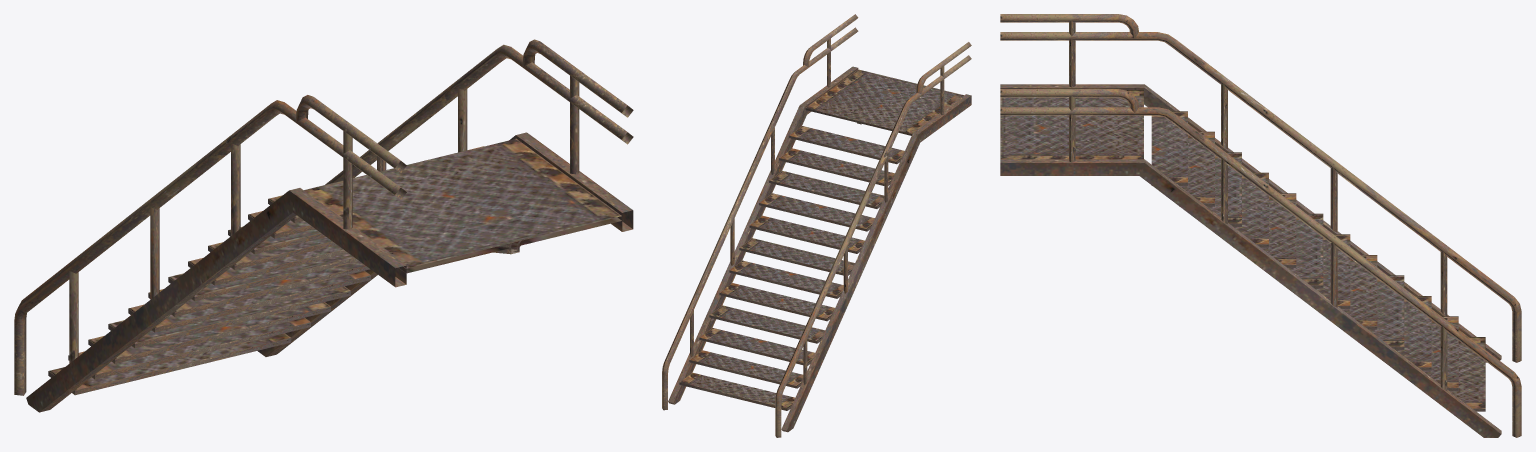
The model's file is Bridge_stairs1.fbx.
3 views of the same model, side by side, from view 1: azimuth 30°, elevation 25°; view 2: azimuth 150°, elevation 25°; view 3: azimuth 270°, elevation 25° (orthographic). The views are drawn at different scales.
Parts seen in each view (by area): view 1: Bridge_stairs1; view 2: Bridge_stairs1; view 3: Bridge_stairs1.
Part boxes in pixels (x1,y1,x2,y2): Bridge_stairs1: (14, 39, 633, 412); Bridge_stairs1: (662, 14, 971, 437); Bridge_stairs1: (1000, 14, 1521, 437).
Size of the model in its own units: 210 by 429 by 584.
